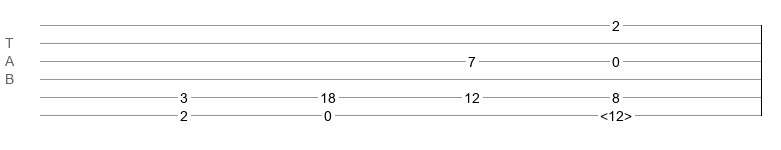0: (324, 108, 332, 118), (612, 54, 620, 64)
12: (464, 90, 480, 100)
18: (320, 90, 336, 100)
2: (180, 108, 188, 118), (612, 18, 620, 28)
3: (180, 90, 188, 100)
7: (468, 54, 476, 64)
8: (612, 90, 620, 100)
harmonic: (600, 108, 632, 118)
